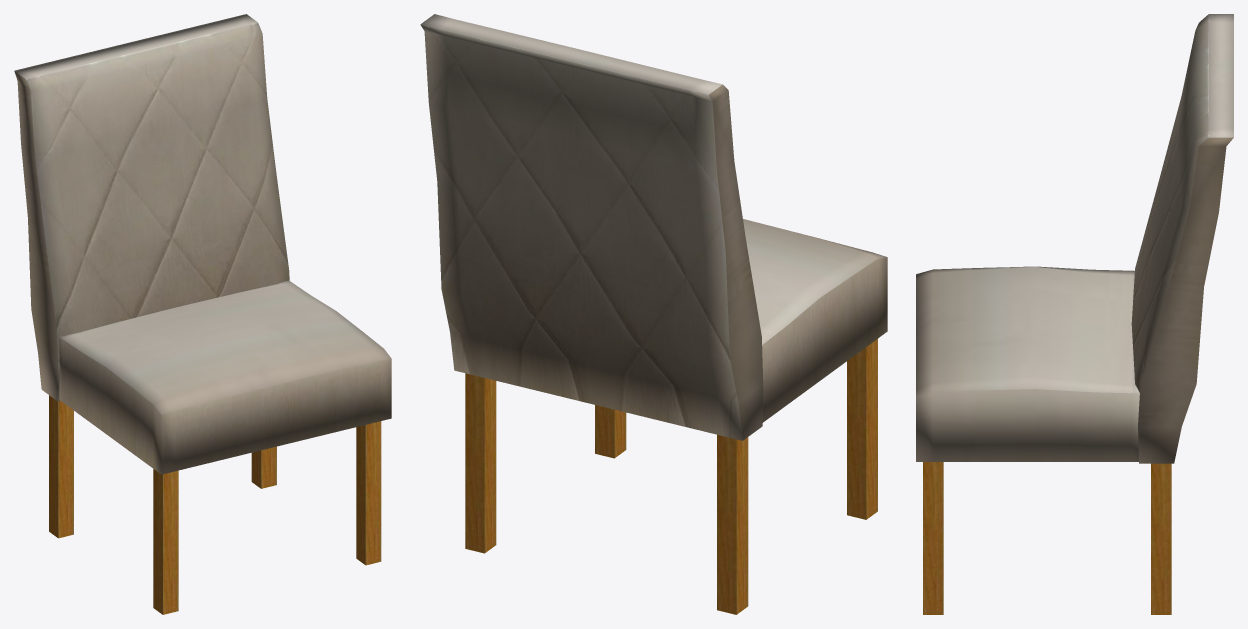
Rendered from cadeira.glb.
3 renders of one model, left to right at view 1: azimuth 30°, elevation 25°; view 2: azimuth 150°, elevation 25°; view 3: azimuth 270°, elevation 25°, orthographic. The views are drawn at different scales.
Visible parts, largest first — view 1: encosto, assento, pe1, pe2, pe4, pe3; view 2: encosto, assento, pe4, pe3, pe1, pe2; view 3: assento, encosto, pe2, pe3.
Boxes of the visible parts, x1=… form: encosto: x1=14, y1=14, x2=289, y2=401; assento: x1=59, y1=280, x2=391, y2=474; pe1: x1=153, y1=469, x2=178, y2=614; pe2: x1=356, y1=421, x2=381, y2=565; pe4: x1=49, y1=395, x2=73, y2=538; pe3: x1=251, y1=446, x2=276, y2=488; encosto: x1=420, y1=14, x2=763, y2=440; assento: x1=743, y1=219, x2=887, y2=422; pe4: x1=717, y1=434, x2=748, y2=614; pe3: x1=465, y1=373, x2=496, y2=553; pe1: x1=847, y1=339, x2=877, y2=519; pe2: x1=595, y1=405, x2=626, y2=458; assento: x1=916, y1=266, x2=1139, y2=461; encosto: x1=1131, y1=14, x2=1233, y2=463; pe2: x1=923, y1=462, x2=943, y2=614; pe3: x1=1151, y1=463, x2=1171, y2=614.
Bounding box in the file's own units: 2.36 × 4.28 × 2.56.
1 material, 1 textured.
